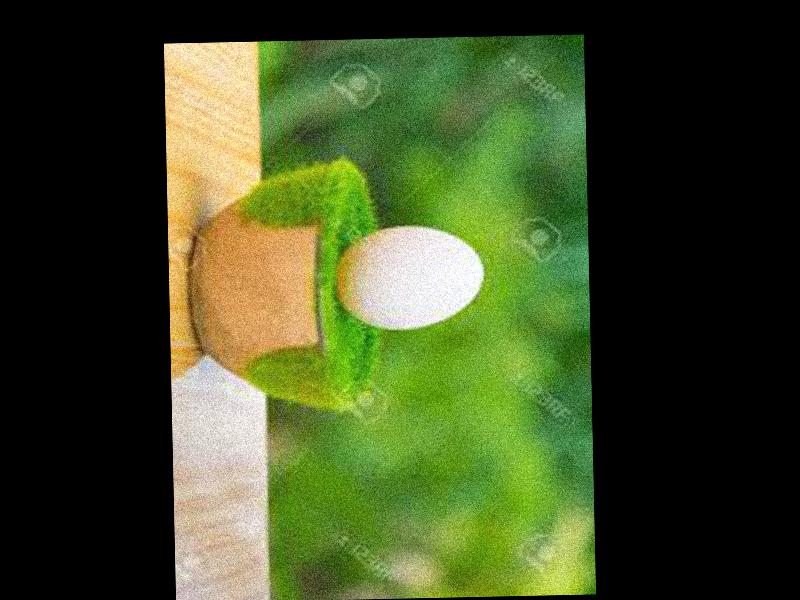Eggs: (335, 226, 482, 333)
